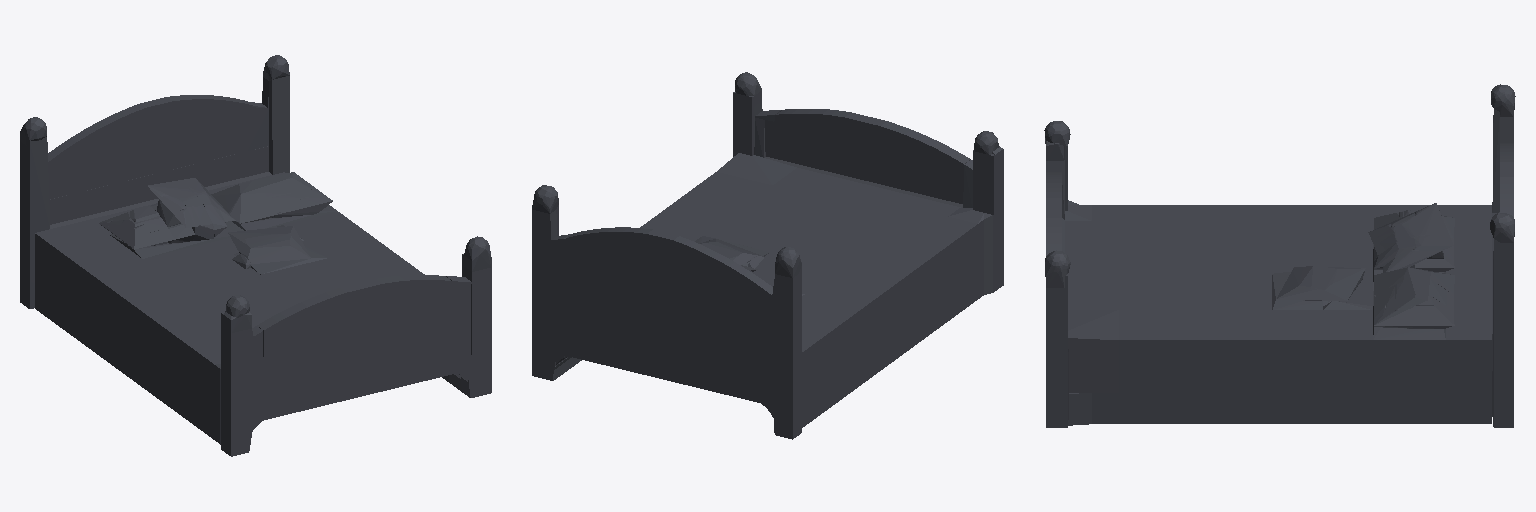
The robot description file, URDF, robot "../obj/bed.urdf":
<?xml version="1.0" ?>
<robot name="../obj/bed.urdf">
  <link name="baseLink">
    <inertial>
      <origin rpy="0 0 0" xyz="0.0006 0.0059 -0.0127"/>
       <mass value="50"/>
       <inertia ixx="5.554600096114597e-07" ixy="-2.1113123916912654e-09" ixz="3.268838166410483e-10" iyy="2.6825401185982677e-07" iyz="-1.8537902803710622e-08" izz="7.712599913937959e-07"/>
    </inertial>
    <visual>
      <origin rpy="0 0 0" xyz="0.0006 0.0059 -0.0127"/>
      <geometry>
        <mesh filename="../obj/bed_vhacd.obj" 
		scale="18.0 18.0 18.0"/>
      </geometry>
     <material name="grey">
      <color rgba="0.32 0.33 0.36 1"/>
     </material>
    </visual>
    <collision>
      <origin rpy="0 0 0" xyz="0.0006 0.0059 -0.0127"/>
      <geometry>
        <mesh filename="../obj/bed_vhacd.obj" scale="18.0 18.0 18.0"/>
      </geometry>
    </collision>
  </link>
</robot>
        

--- Facts derived from the render (not from the file) ---
Views: 3 orthographic renders of the robot side by side, from view 1: azimuth 30°, elevation 25°; view 2: azimuth 150°, elevation 25°; view 3: azimuth 270°, elevation 25°.
Robot: ../obj/bed.urdf — 1 links, 0 joints (none); root link baseLink; default pose: every joint at zero.
Visible links, largest first — view 1: baseLink; view 2: baseLink; view 3: baseLink.
Boxes of the visible links, left/top/right/bottom form: baseLink: left=20, top=55, right=491, bottom=456; baseLink: left=532, top=72, right=1003, bottom=439; baseLink: left=1044, top=84, right=1515, bottom=427.
Size in the robot's own frame: 1.78 by 2.5 by 1.22 metres.
Meshes: 1 distinct files referenced, 1 mesh visuals loaded (1 OBJ).